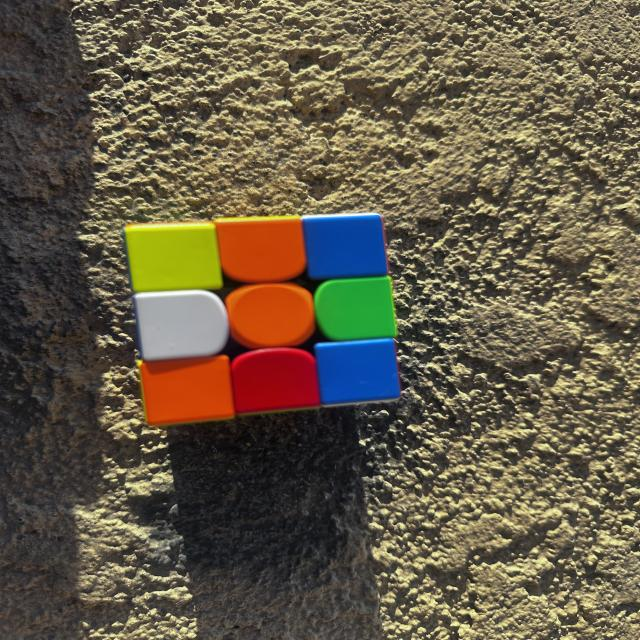sticker: (127, 229, 214, 286), (219, 221, 304, 279), (141, 296, 220, 355), (142, 364, 232, 413), (235, 354, 318, 405), (229, 294, 316, 340), (316, 284, 394, 333), (308, 223, 382, 273), (320, 346, 390, 397)
